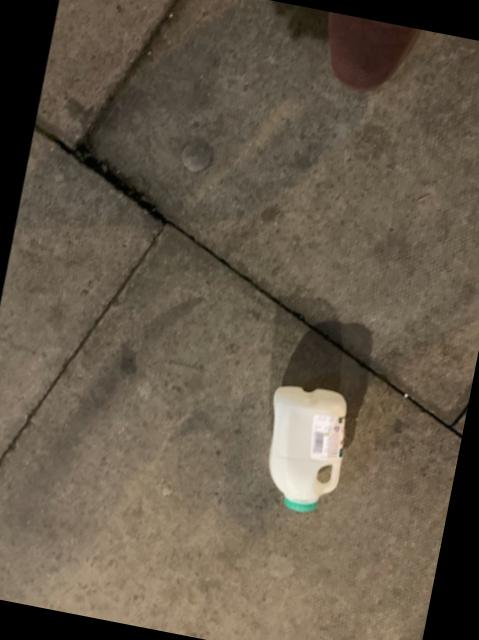plastic: (269, 388, 346, 513)
